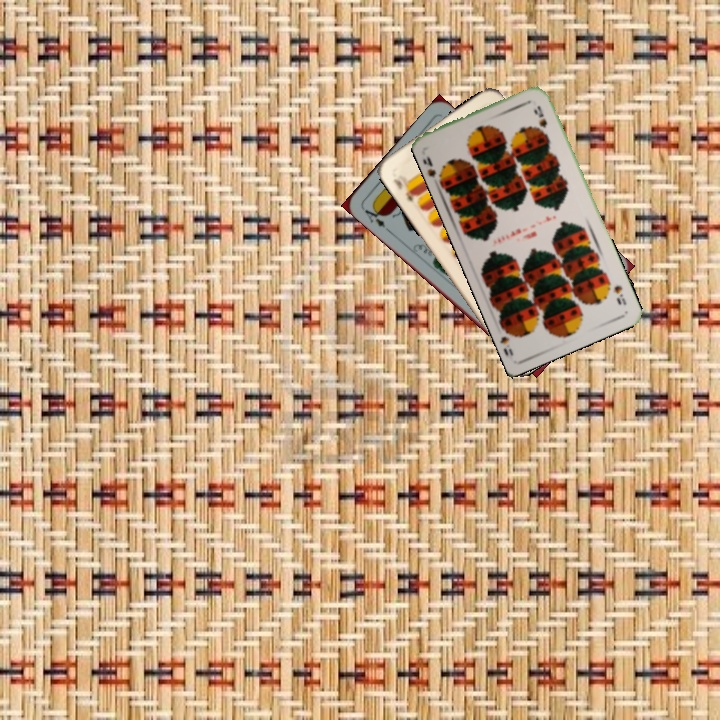E10: (389, 174, 419, 204)
EA: (360, 202, 392, 234)
S9: (420, 151, 448, 185), (610, 281, 629, 307)
